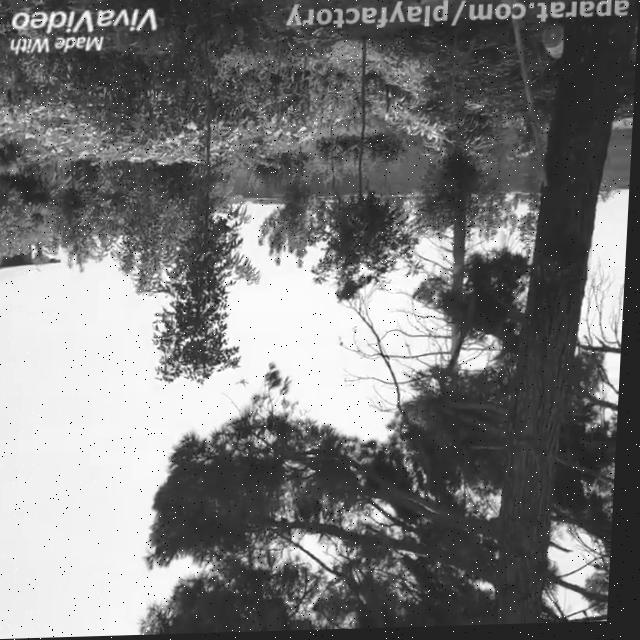drone: (237, 378, 257, 394)
